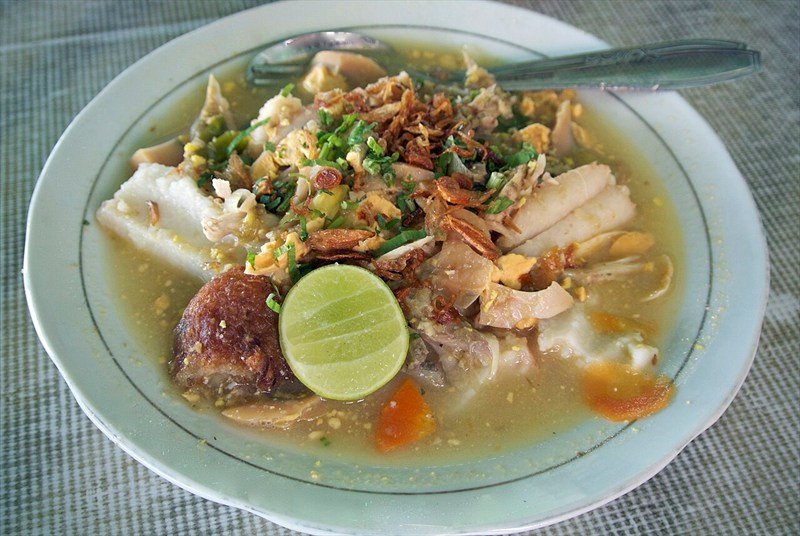Soto Ayam: (152, 71, 618, 421)
